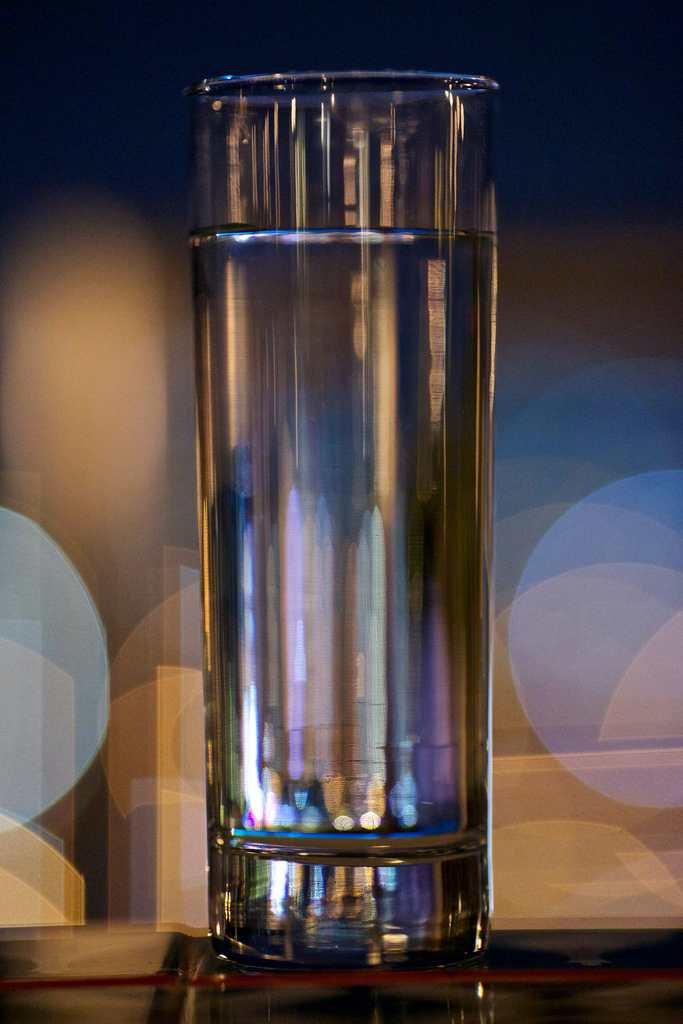glass of water: (179, 68, 513, 969)
